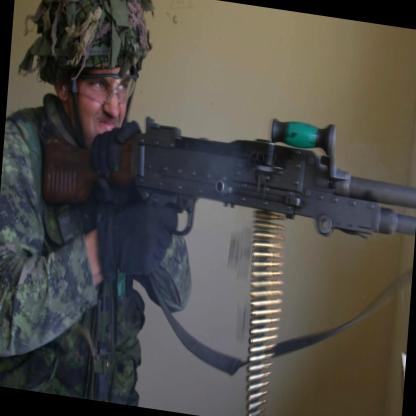rifle: (50, 96, 416, 270)
